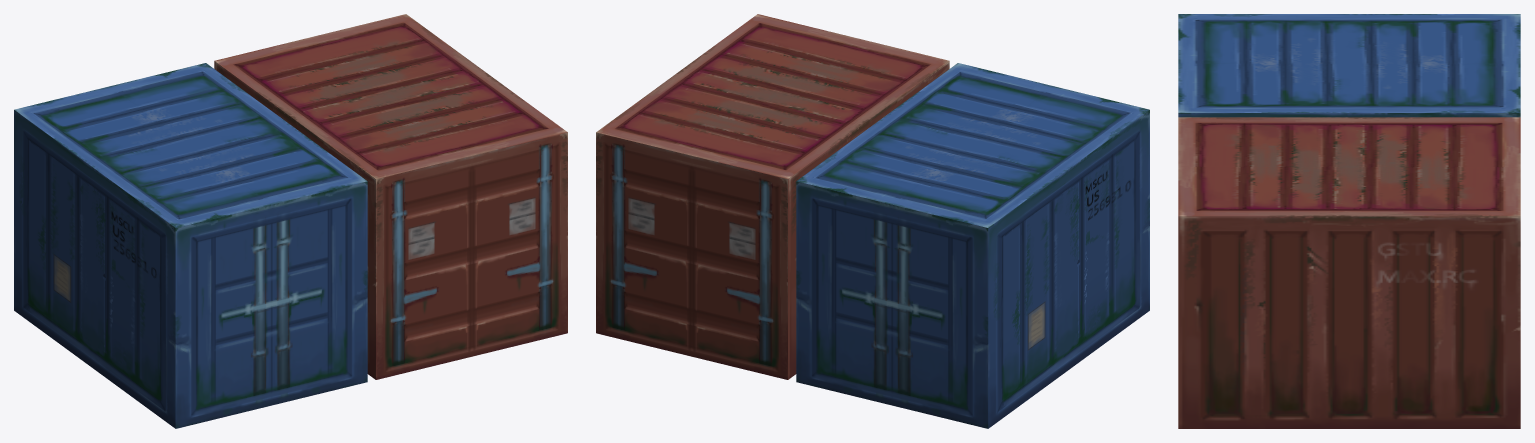
Rendered from wj_JZX.FBX.
3 views of the same model, side by side, from view 1: azimuth 30°, elevation 25°; view 2: azimuth 150°, elevation 25°; view 3: azimuth 270°, elevation 25° (orthographic). The views are drawn at different scales.
Visible parts, largest first — view 1: wj_JZX01, wj_JZX02; view 2: wj_JZX01, wj_JZX02; view 3: wj_JZX02, wj_JZX01.
Part boxes in pixels (x1,y1,x2,y2): wj_JZX01: [14, 63, 367, 428]; wj_JZX02: [214, 14, 567, 379]; wj_JZX01: [796, 63, 1149, 428]; wj_JZX02: [596, 14, 949, 379]; wj_JZX02: [1178, 117, 1520, 428]; wj_JZX01: [1178, 14, 1520, 117].
Bounding box in the file's own units: 778 × 556 × 381.
